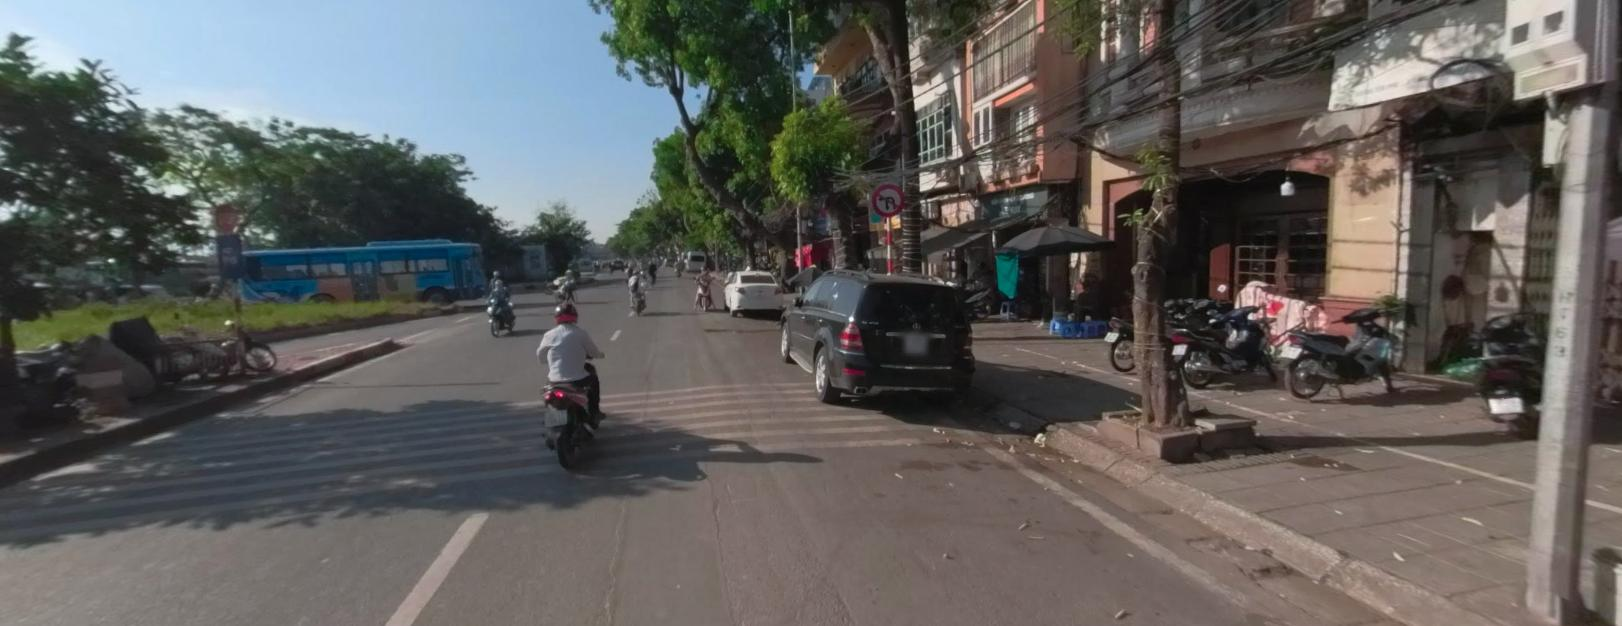Cam re: (871, 183, 903, 215)
